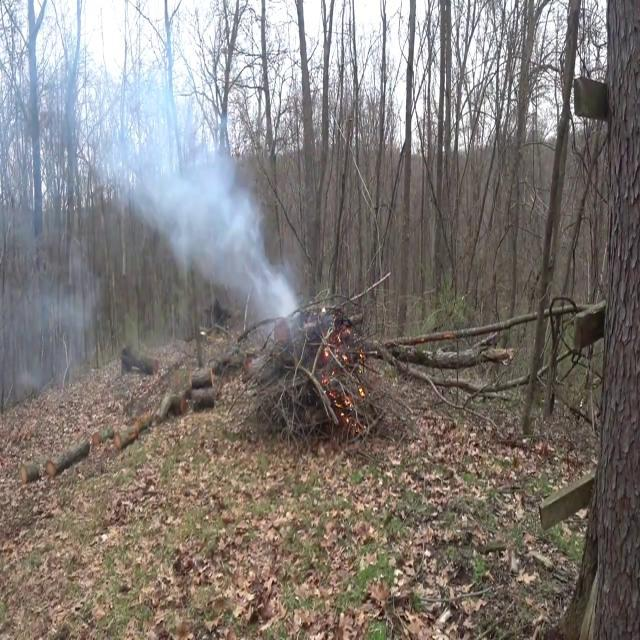Smoke: (122, 83, 306, 337), (0, 152, 98, 414)
